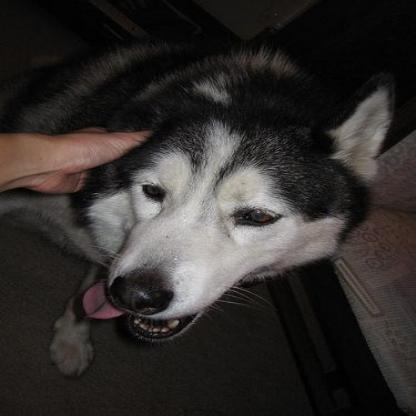Siberian_husky: (0, 37, 394, 378)
